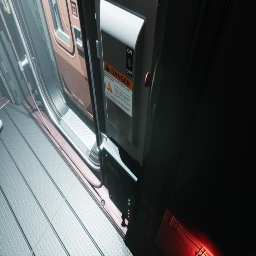0: (0, 119, 3, 131)
EmergencyPhone ,: (0, 0, 12, 14)
SafetySwitchPanel ,: (94, 0, 168, 167)
